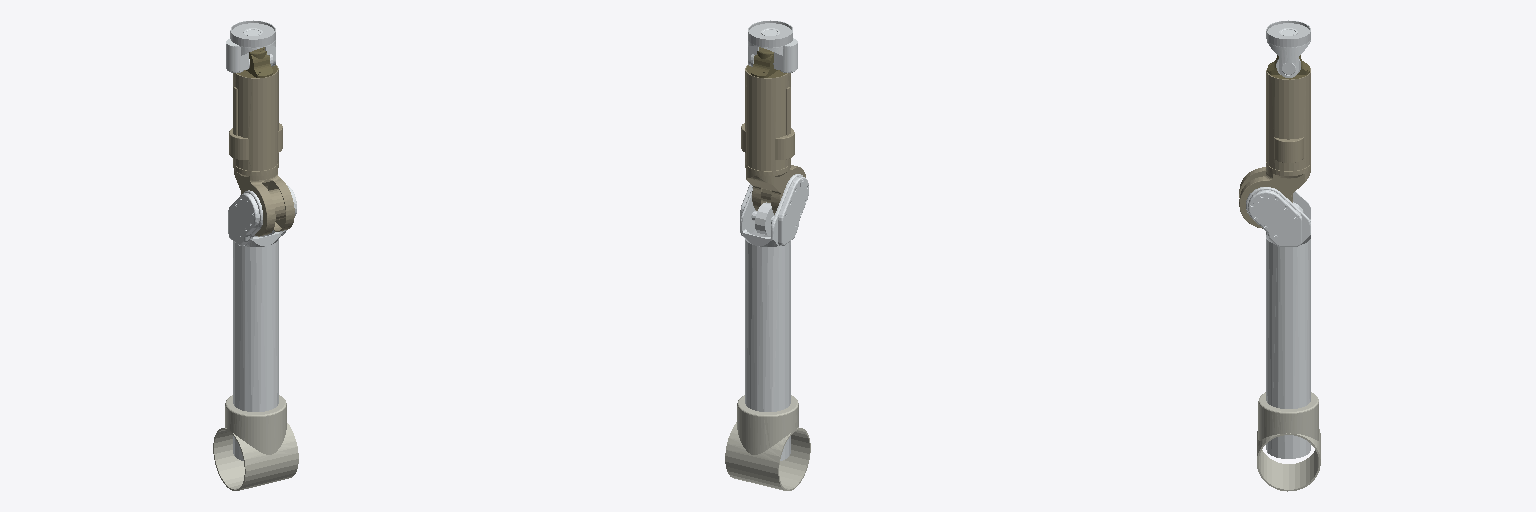
The robot description file, URDF, robot "wam7dof":
<?xml version="1.0" encoding="utf-8" ?>
<!-- This URDF was automatically created by SolidWorks to URDF Exporter! Originally created by [author] ([email redacted]) 
     Commit Version: 1.5.1-0-g916b5db  Build Version: 1.5.7152.31018
     For more information, please see http://wiki.ros.org/sw_urdf_exporter 

This URDF was sourced from https://git.barrett.com/software/barrett-ros2-pkg/-/tree/devel
 -->
<robot name="wam7dof">
    <link name="base_link">
        
<inertial>
            <origin xyz="3.40104668810678E-05 0.0736066059361038 -0.0587577266799806" rpy="0 0 3.14" />
            <mass value="13.5476126893973" />
            <inertia ixx="0.156470957074821" ixy="-4.03291630164832E-05" ixz="4.63998145785361E-05" iyy="0.214731752462203" iyz="0.00513845865911244" izz="0.108286175637366" />
        </inertial>

        <visual>
            <origin xyz="0 0 0" rpy="0 0 0" />
            <geometry>
                <!-- <box size="0.3 0.35 0.15" /> -->
                <mesh filename="./wam_meshes/base_link.STL" />
            </geometry>
            <material name="">
                <color rgba="0.792156862745098 0.819607843137255 0.933333333333333 1" />
            </material>
        </visual>
        <collision>
            <origin xyz="0 0.04 0.08" rpy="0 0 0" />
            <geometry>
                <box size="0.3 0.37 0.17" />
            </geometry>
        </collision>
    </link>
    <link name="FirstLink">
        
        <inertial>
            <origin xyz="-0.139999974600984 0.264881717494166 3.04922795226637E-09" rpy="0 0 0" />
            <mass value="0.03731551398704" />
            <inertia ixx="0.276162321852689" ixy="5.2006100830383E-08" ixz="7.60373820597545E-08" iyy="0.237968754825239" iyz="3.7940385825581E-09" izz="0.145688610159368" />
        </inertial>

        <visual>
            <origin xyz="0 0 0" rpy="0 0 0" />
            <geometry>
                <mesh filename="./wam_meshes/FirstLink.STL" />
            </geometry>
            <material name="">
                <color rgba="0.796078431372549 0.796078431372549 0.752941176470588 1" />
            </material>
        </visual>

        <collision>
            <origin xyz="0 0.12 0" rpy="0 0 0" />
            <geometry>
                <box size="0.17 0.24 0.37" />
            </geometry>
        </collision>
    </link>
    <joint name="q1" type="revolute">
        <origin xyz="0 0 0.16" rpy="1.5708 0 1.5708" />
        <parent link="base_link" />
        <child link="FirstLink" />
        <axis xyz="0 1 0" />
        <limit lower="-2.6" upper="2.6" effort="40" velocity="10" />
    </joint>
    <link name="SecondLink">
        
        <inertial>
            <origin xyz="-3.30733566011414E-06 0.0504592578779878 -1.93867229948091E-05" rpy="0 0 0" />
            <mass value="0.061755485547077" />
            <inertia ixx="0.00258552588913393" ixy="-1.52178232460015E-08" ixz="-4.72455503361288E-08" iyy="0.00186310872414462" iyz="3.58033312144846E-08" izz="0.00227630686304741" />
        </inertial>

        <visual>
            <origin xyz="0 0 0" rpy="0 0 0" />
            <geometry>
                <mesh filename="./wam_meshes/SecondLink.STL" />
            </geometry>
            <material name="">
                <color rgba="0.796078431372549 0.796078431372549 0.752941176470588 1" />
            </material>
        </visual>

        <collision>
            <origin xyz="0 0.02 0" rpy="0 0 0" />
            <geometry>
                <box size="0.13 0.17 0.15" />
            </geometry>
        </collision>
    </link>
    <joint name="q2" type="revolute">
        <origin xyz="0 0.186 0" rpy="3.1416 -1.5708 3.1416" />
        <parent link="FirstLink" />
        <child link="SecondLink" />
        <axis xyz="1 0 0" />
        <limit lower="-2" upper="2" effort="40" velocity="10" />
    </joint>
    <link name="ThirdLink">
        
<inertial>
            <origin xyz="9.06096997991331E-06 0.79471468339664 -0.0130869016439971" rpy="0 0 0" />
            <mass value="0.038872635233449" />
            <inertia ixx="0.030078978512962" ixy="-1.13635301361627E-06" ixz="2.68391541479368E-07" iyy="0.00292730712291074" iyz="0.0017695664165155" izz="0.0304265922248273" />
        </inertial>

        <visual>
            <origin xyz="0 0 0" rpy="0 0 0" />
            <geometry>
                <mesh filename="./wam_meshes/ThirdLink.STL" />
            </geometry>
            <material name="">
                <color rgba="0.898039215686275 0.917647058823529 0.929411764705882 1" />
            </material>
        </visual>

        <collision>
            <origin xyz="0 0.68 0" rpy="0 0 0" />
            <geometry>
                <box size="0.1 0.45 0.1" />
            </geometry>
        </collision>
    </link>
    <joint name="q3" type="revolute">
        <origin xyz="0 -0.346 0" rpy="3.1416 0 3.1416" />
        <parent link="SecondLink" />
        <child link="ThirdLink" />
        <axis xyz="0 1 0" />
        <limit lower="-2.8" upper="2.8" effort="40" velocity="10" />
    </joint>
    <link name="FourthLink">
        
        <inertial>
            <origin xyz="-0.000129381758547355 0.0430627866930996 0.150035156293387" rpy="0 0 0" />
            <mass value="0.017270635973466" />
            <inertia ixx="0.0144861530368099" ixy="-7.35011796438337E-08" ixz="1.46278041404691E-05" iyy="0.0143994232215456" iyz="-0.000349637115920233" izz="0.00465327086275674" />
        </inertial>

        <visual>
            <origin xyz="0 0 0" rpy="0 0 0" />
            <geometry>
                <mesh filename="./wam_meshes/FourthLink.STL" />
            </geometry>
            <material name="">
                <color rgba="0.666666666666667 0.63921568627451 0.556862745098039 1" />
            </material>
        </visual>

        <collision>
            <origin xyz="0 0.05 0.15" rpy="0 0 0" />
            <geometry>
                <box size="0.1 0.1 0.25" />
            </geometry>
        </collision>
    </link>
    <joint name="q4" type="revolute">
        <origin xyz="0 0.896 -0.045" rpy="1.5708 0 3.1416" />
        <parent link="ThirdLink" />
        <child link="FourthLink" />
        <axis xyz="1 0 0" />
        <limit lower="-0.9" upper="3.1" effort="40" velocity="10" />
    </joint>
    <link name="FifthLink">
        
<inertial>
            <origin xyz="6.78196069913216E-14 0.0187615886070163 -1.8990032765365E-08" rpy="0 0 0" />
            <mass value="0.0149005443008753" />
            <inertia ixx="8.68246260680858E-05" ixy="8.32563149485477E-12" ixz="9.56774172507725E-11" iyy="8.70844273808338E-05" iyz="8.15648112659227E-11" izz="6.71124003197135E-05" />
        </inertial>

        <visual>
            <origin xyz="0 0 0" rpy="0 0 0" />
            <geometry>
                <mesh filename="./wam_meshes/FifthLink.STL" />
            </geometry>
            <material name="">
                <color rgba="0.47843137254902 0.454901960784314 0.345098039215686 1" />
            </material>
        </visual>

        <collision>
            <origin xyz="0 0.02 0" rpy="0 0 0" />
            <geometry>
                <box size="0.04 0.07 0.07" />
            </geometry>
        </collision>
    </link>
    <joint name="q5" type="revolute">
        <origin xyz="0 0.045 0.2723" rpy="1.5708 0 0" />
        <parent link="FourthLink" />
        <child link="FifthLink" />
        <axis xyz="0 1 0" />
        <limit lower="-4.76" upper="1.24" effort="40" velocity="10" />
    </joint>
    <link name="SixthLink">
        
        <inertial>
            <origin xyz="-0.0139658979390116 0.0242366974396766 9.86247031466266E-08" rpy="0 0 0" />
            <mass value="0.0506696185792322" />
            <inertia ixx="0.000369379806854581" ixy="1.50400439239954E-05" ixz="-2.41001577391907E-09" iyy="0.000619056939139963" iyz="1.91499423781416E-10" izz="0.000747159541140852" />
        </inertial>

        <visual>
            <origin xyz="0 0 0" rpy="0 0 0" />
            <geometry>
                <mesh filename="./wam_meshes/SixthLink.STL" />
            </geometry>
            <material name="">
                <color rgba="0.898039215686275 0.917647058823529 0.929411764705882 1" />
            </material>
        </visual>

        <collision>
            <origin xyz="-0.015 0.02 0" rpy="0 0 0" />
            <geometry>
                <box size="0.1 0.06 0.05" />
            </geometry>
        </collision>
    </link>
    <joint name="q6" type="revolute">
        <origin xyz="0 0.02721 0" rpy="0 0 0" />
        <parent link="FifthLink" />
        <child link="SixthLink" />
        <axis xyz="1 0 0" />
        <limit lower="-1.6" upper="1.6" effort="40" velocity="10" />
    </joint>
    <link name="SeventhLink">
        
        <inertial>
            <origin xyz="-2.76116528402228E-16 0.00888734044750605 1.73472347597681E-18" rpy="0 0 0" />
            <mass value="0.0991011928366143" />
            <inertia ixx="6.46940974881037E-05" ixy="-7.72224623395982E-21" ixz="-3.76158192263132E-36" iyy="0.000127725203661566" iyz="2.6027372930156E-21" izz="6.46940974881037E-05" />
        </inertial>

        <visual>
            <origin xyz="0 0 0" rpy="0 0 0" />
            <geometry>
                <mesh filename="./wam_meshes/SeventhLink.STL" />
            </geometry>
            <material name="">
                <color rgba="0.831372549019608 0.847058823529412 0.858823529411765 1" />
            </material>
        </visual>

        <collision>
            <origin xyz="0 0.01 0" rpy="1.571 1.571 0" />
            <geometry>
                <cylinder length="0.02" radius="0.045"/>
            </geometry>
        </collision>
    </link>
    <joint name="q7" type="revolute">
        <origin xyz="-0.006251 0.04795 0" rpy="0 1.5708 0" />
        <parent link="SixthLink" />
        <child link="SeventhLink" />
        <axis xyz="0 1 0" />
        <limit lower="-3" upper="3" effort="40" velocity="10" />
    </joint>
</robot>

--- What the picture shows (computed from the rendered views, not written in the file) ---
3 views of the same robot in one strip: view 1: azimuth 30°, elevation 25°; view 2: azimuth 150°, elevation 25°; view 3: azimuth 270°, elevation 25° (orthographic).
Robot: wam7dof — 8 links, 7 joints (7 revolute); root link base_link; default pose: every joint at zero.
Visible links, largest first — view 1: ThirdLink, FourthLink, SecondLink, SixthLink, SeventhLink, FifthLink; view 2: ThirdLink, FourthLink, SecondLink, SixthLink, SeventhLink, FifthLink; view 3: ThirdLink, FourthLink, SecondLink, SixthLink, SeventhLink.
Link boxes in pixels (x1,y1,x2,y2): ThirdLink: (228,185,296,460); FourthLink: (229,65,294,236); SecondLink: (213,395,298,490); SixthLink: (226,28,275,72); SeventhLink: (230,20,275,47); FifthLink: (237,47,277,77); ThirdLink: (740,174,808,460); FourthLink: (741,65,805,214); SecondLink: (725,395,810,490); SixthLink: (748,28,797,72); SeventhLink: (748,20,792,47); FifthLink: (746,47,786,77); ThirdLink: (1246,187,1310,458); FourthLink: (1239,68,1310,228); SecondLink: (1257,392,1320,491); SixthLink: (1267,28,1310,77); SeventhLink: (1266,20,1310,46).
Size in the robot's own frame: 0.1249 by 0.1612 by 0.9778 metres.
Meshes: 8 distinct files referenced, 6 mesh visuals loaded (6 binary STL); not drawn: 2 (reference not matched to a file when rendering).
